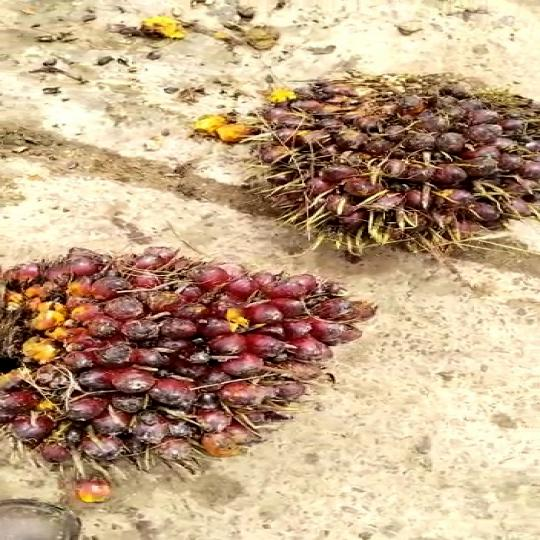kurang masak: (0, 244, 389, 493), (234, 78, 540, 266)
